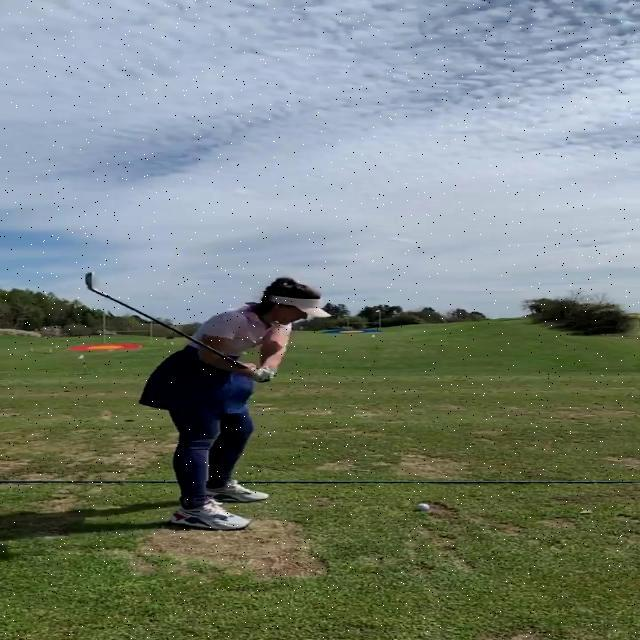golf ball: (418, 503, 430, 510)
golf club-handle: (81, 272, 268, 382)
golf club-head: (83, 271, 102, 289)
